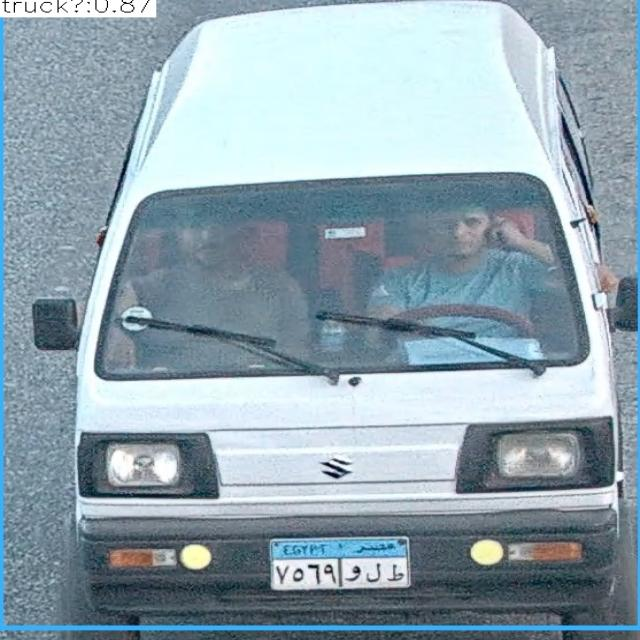windshield: (96, 184, 584, 372)
